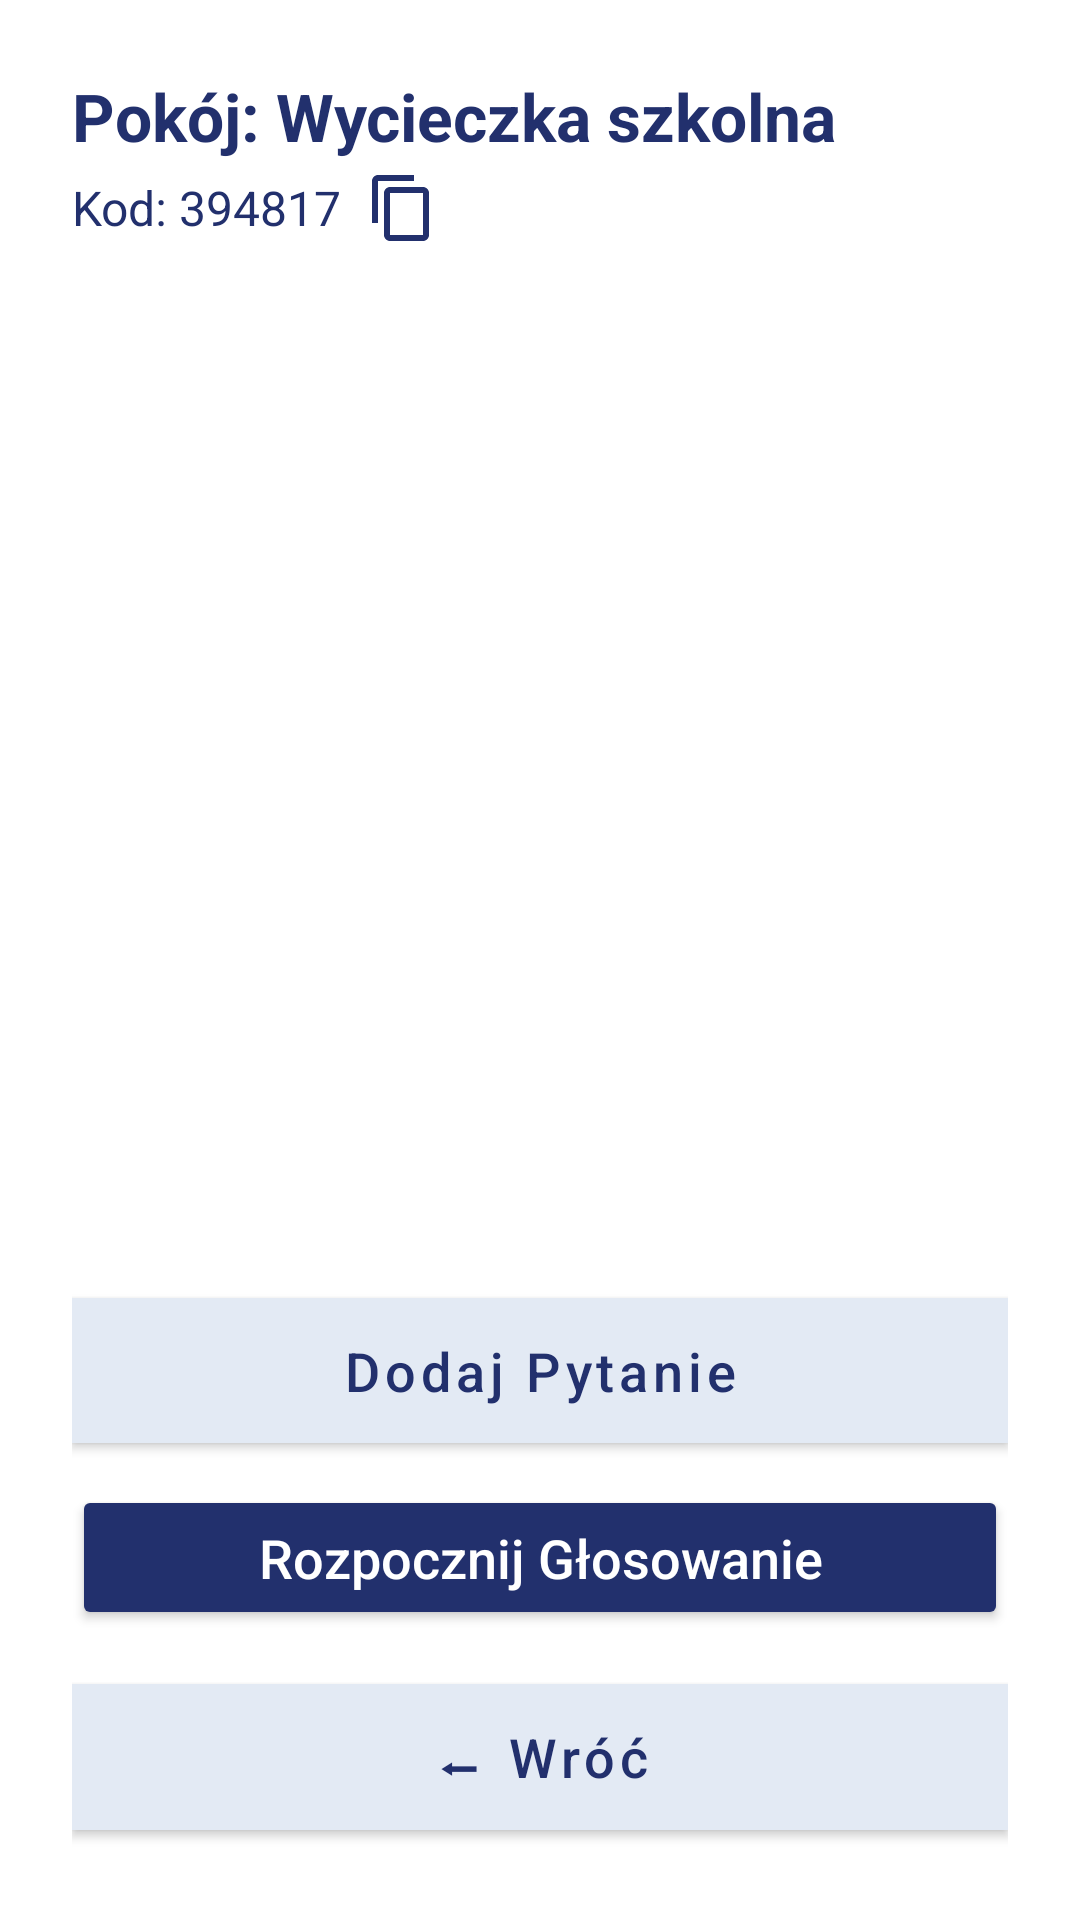

Where to tap for icons on this 1080x1920 app screen, as [x,y]:
Kopiuj kod: [400,208]
